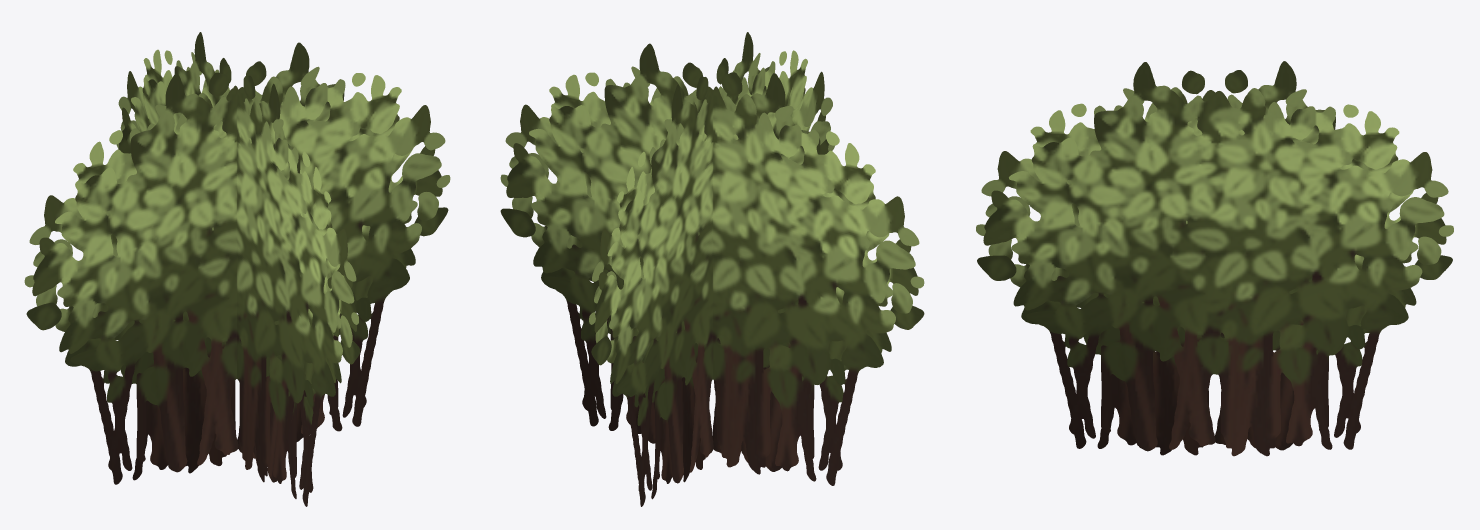
File: painted-bush-012.glb
3 renders of one model, left to right at view 1: azimuth 30°, elevation 25°; view 2: azimuth 150°, elevation 25°; view 3: azimuth 270°, elevation 25°, orthographic. The views are drawn at different scales.
Bounding box in the file's own units: 10.08 × 9.27 × 10.08.
1 material, 1 textured.
